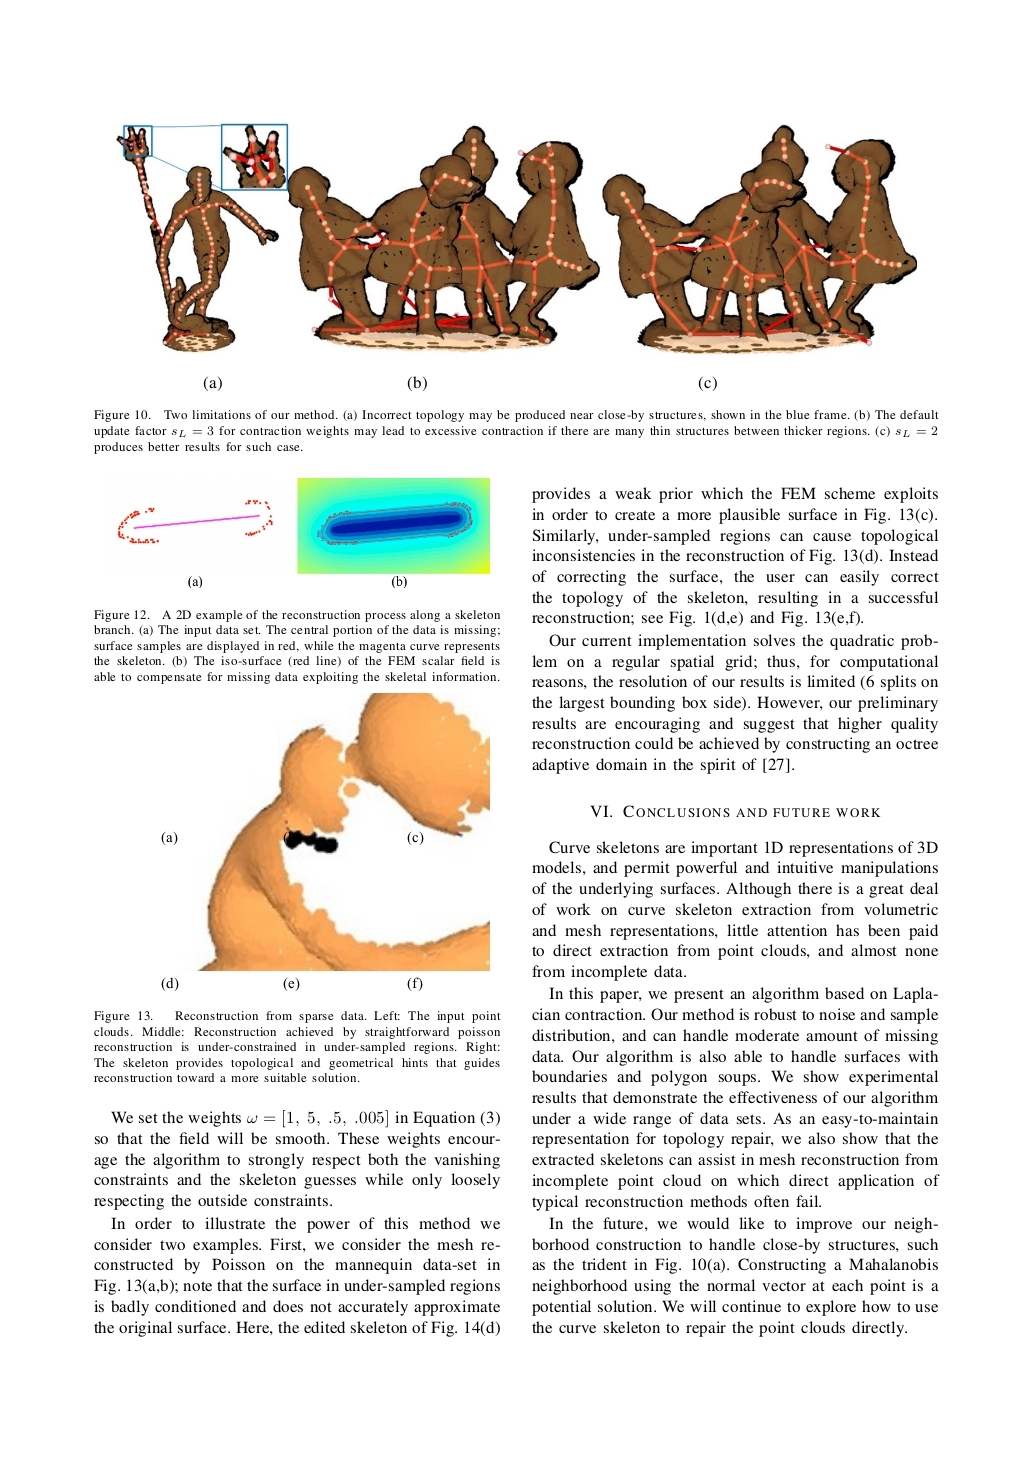figure: (161, 692, 490, 971), (287, 123, 599, 352), (602, 129, 916, 353), (116, 123, 285, 352), (297, 478, 490, 576), (117, 500, 273, 543)
